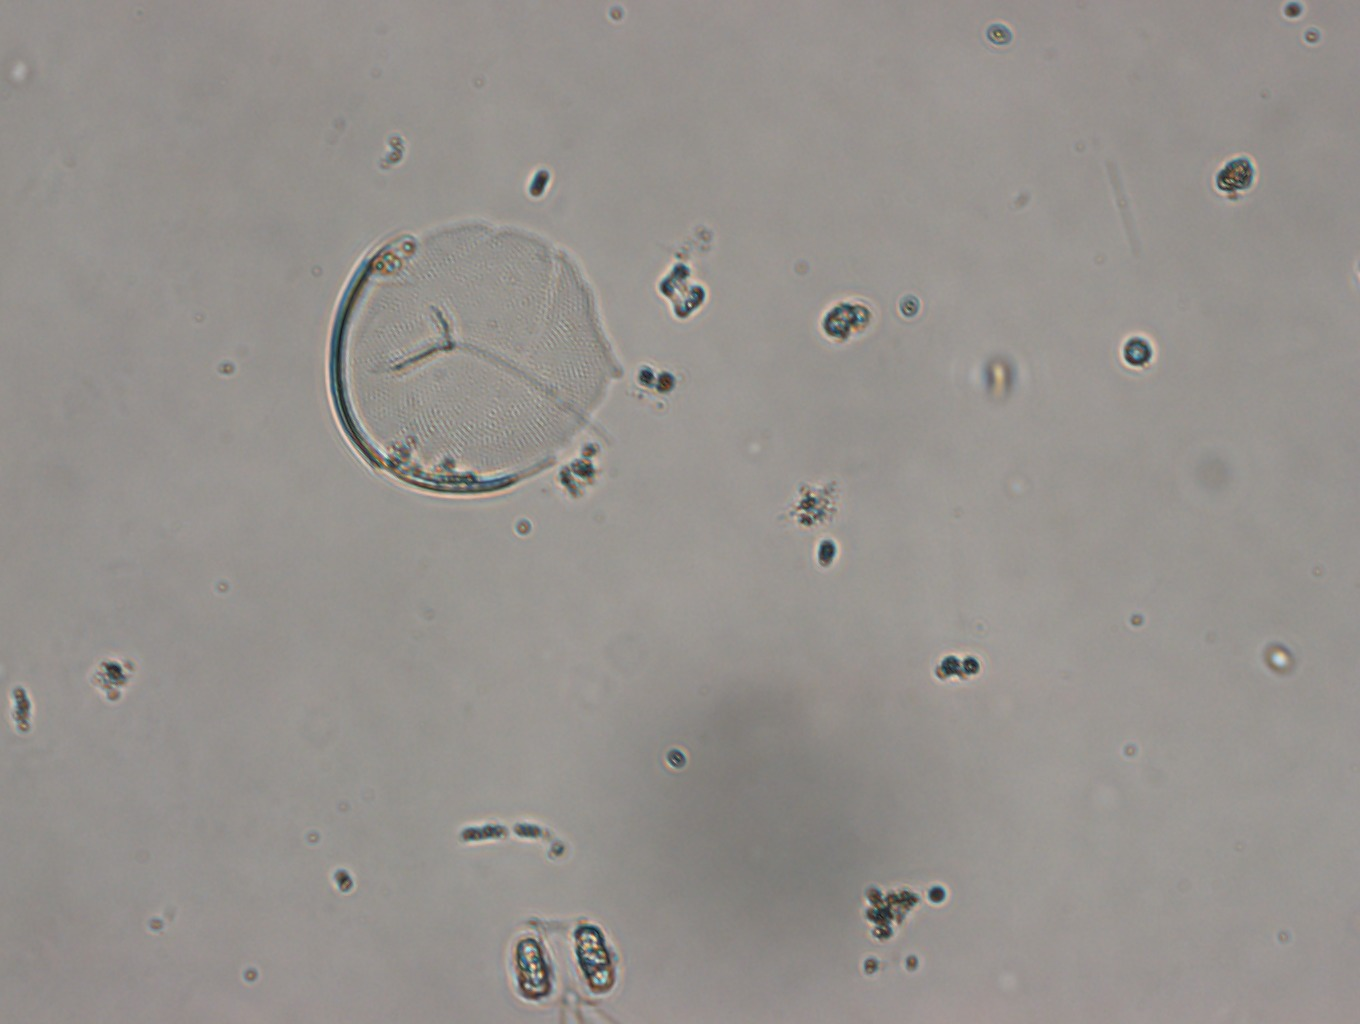coscinodiscus: (320, 208, 638, 504)
